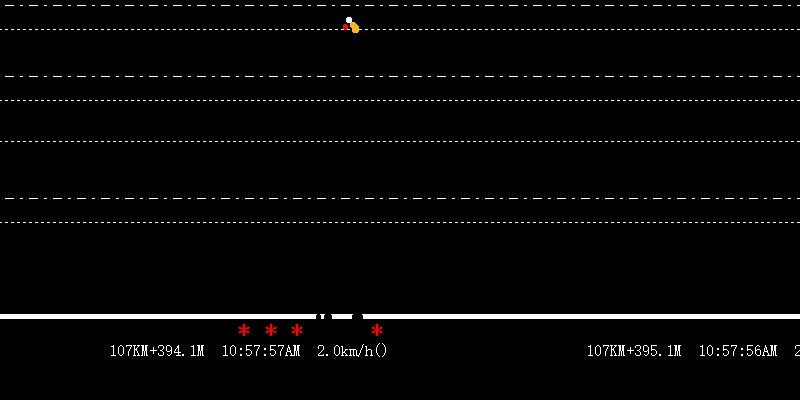face_s: (346, 14, 358, 36)
star: (368, 320, 383, 339), (289, 320, 303, 339), (236, 322, 251, 338), (264, 321, 277, 336)
